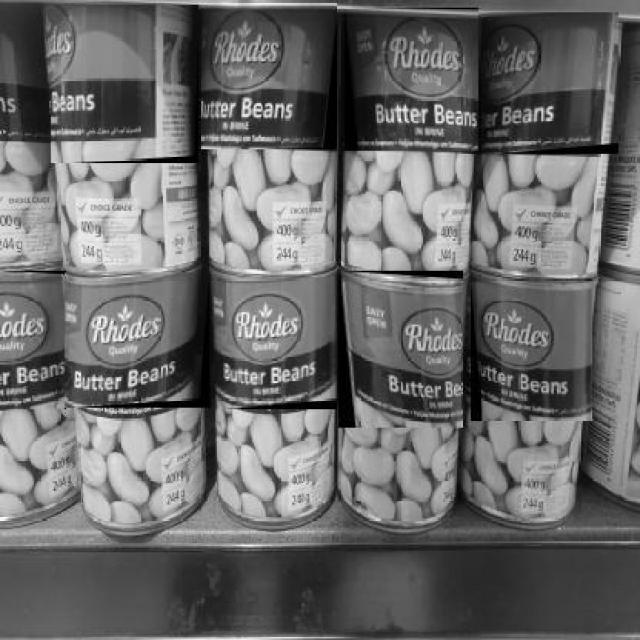Beans: (51, 6, 200, 166), (200, 3, 338, 151), (478, 13, 620, 156), (65, 273, 211, 410), (339, 271, 465, 429), (345, 8, 481, 152), (472, 279, 594, 422), (210, 277, 339, 411), (0, 271, 68, 411)
